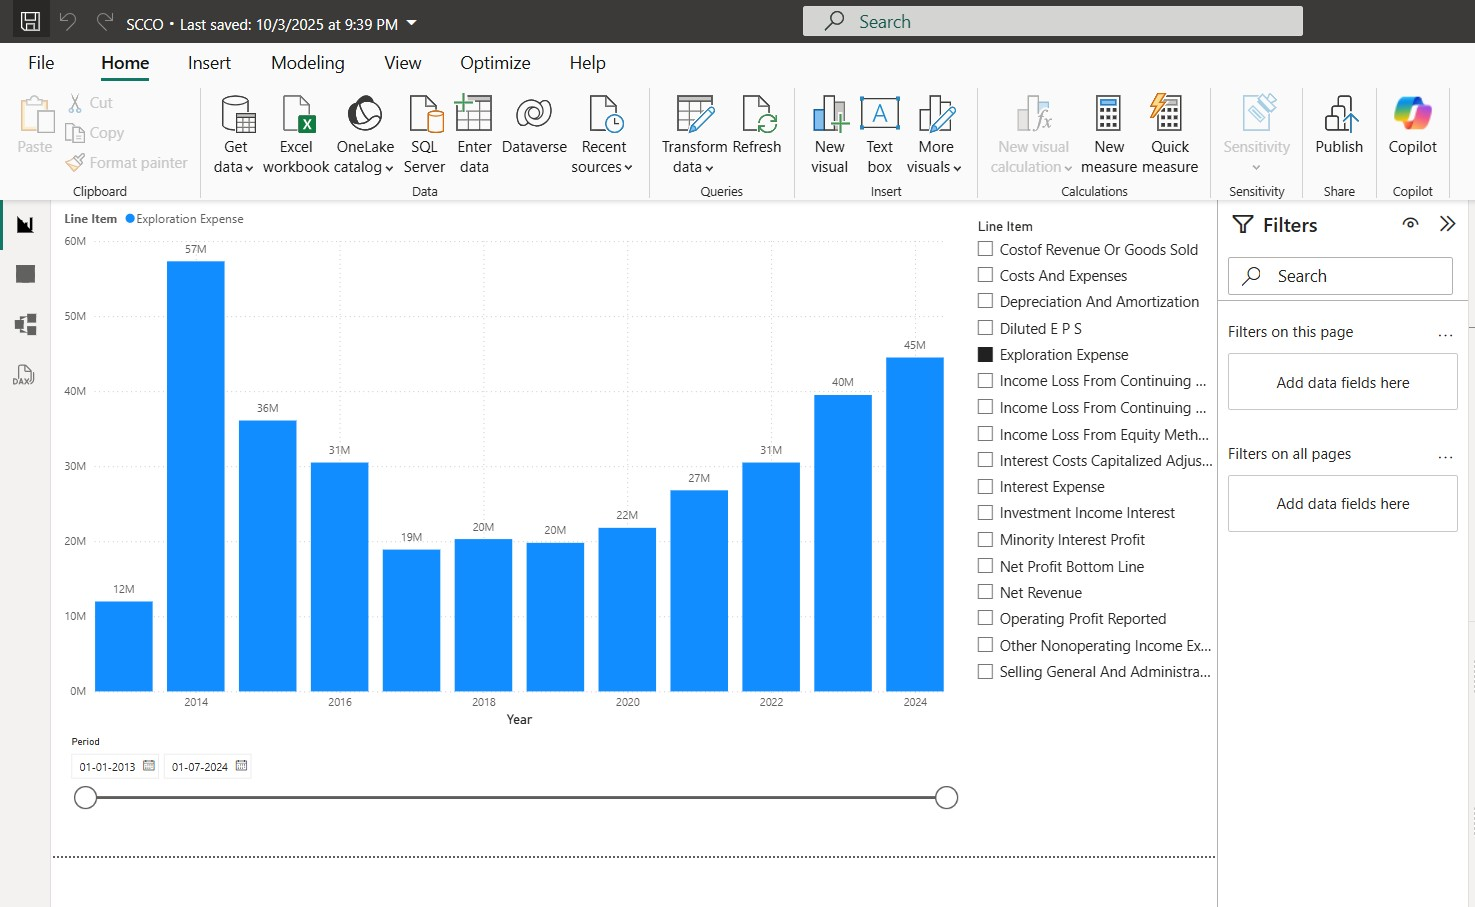

Layout of this report page (visuals, bound fields, positions):
{"tool":"powerbi","page":{"name":"Income Statement","canvas":[1280,720],"ordinal":0},"visuals":[{"type":"columnChart","fields":{"Category":["company scco_nyq_income_statement_up.period_start.Variation.Date Hierarchy.Year","company scco_nyq_income_statement_up.period_start.Variation.Date Hierarchy.Quarter","company scco_nyq_income_statement_up.period_start.Variation.Date Hierarchy.Month","company scco_nyq_income_statement_up.period_start.Variation.Date Hierarchy.Day"],"Y":["Sum(company scco_nyq_income_statement_up.numeric_value)"],"Series":["company scco_nyq_income_statement_up.Line Item"]},"box":[9.6,0,975.6,583.2],"z":0},{"type":"slicer","fields":{"Values":["company scco_nyq_income_statement_up.Line Item"]},"box":[1004.5,15.1,275.8,705.3],"z":1000},{"type":"slicer","fields":{"Values":["company scco_nyq_income_statement_up.Period"]},"box":[9.6,583.2,994.9,137.2],"z":2000}]}

Visuals, with their boxes on the page's 1280x720 design canvas (x1, y1, x2, y2). These are canvas units, not pixel positions in the 1475x907 screenshot, which may show the page scaled, cropped or inside an application window:
columnChart - company scco_nyq_income_statement_up.period_start.Variation.Date Hierarchy.Year x company scco_nyq_income_statement_up.period_start.Variation.Date Hierarchy.Quarter: left=10, top=0, right=985, bottom=583
slicer - company scco_nyq_income_statement_up.Line Item: left=1004, top=15, right=1280, bottom=720
slicer - company scco_nyq_income_statement_up.Period: left=10, top=583, right=1004, bottom=720
